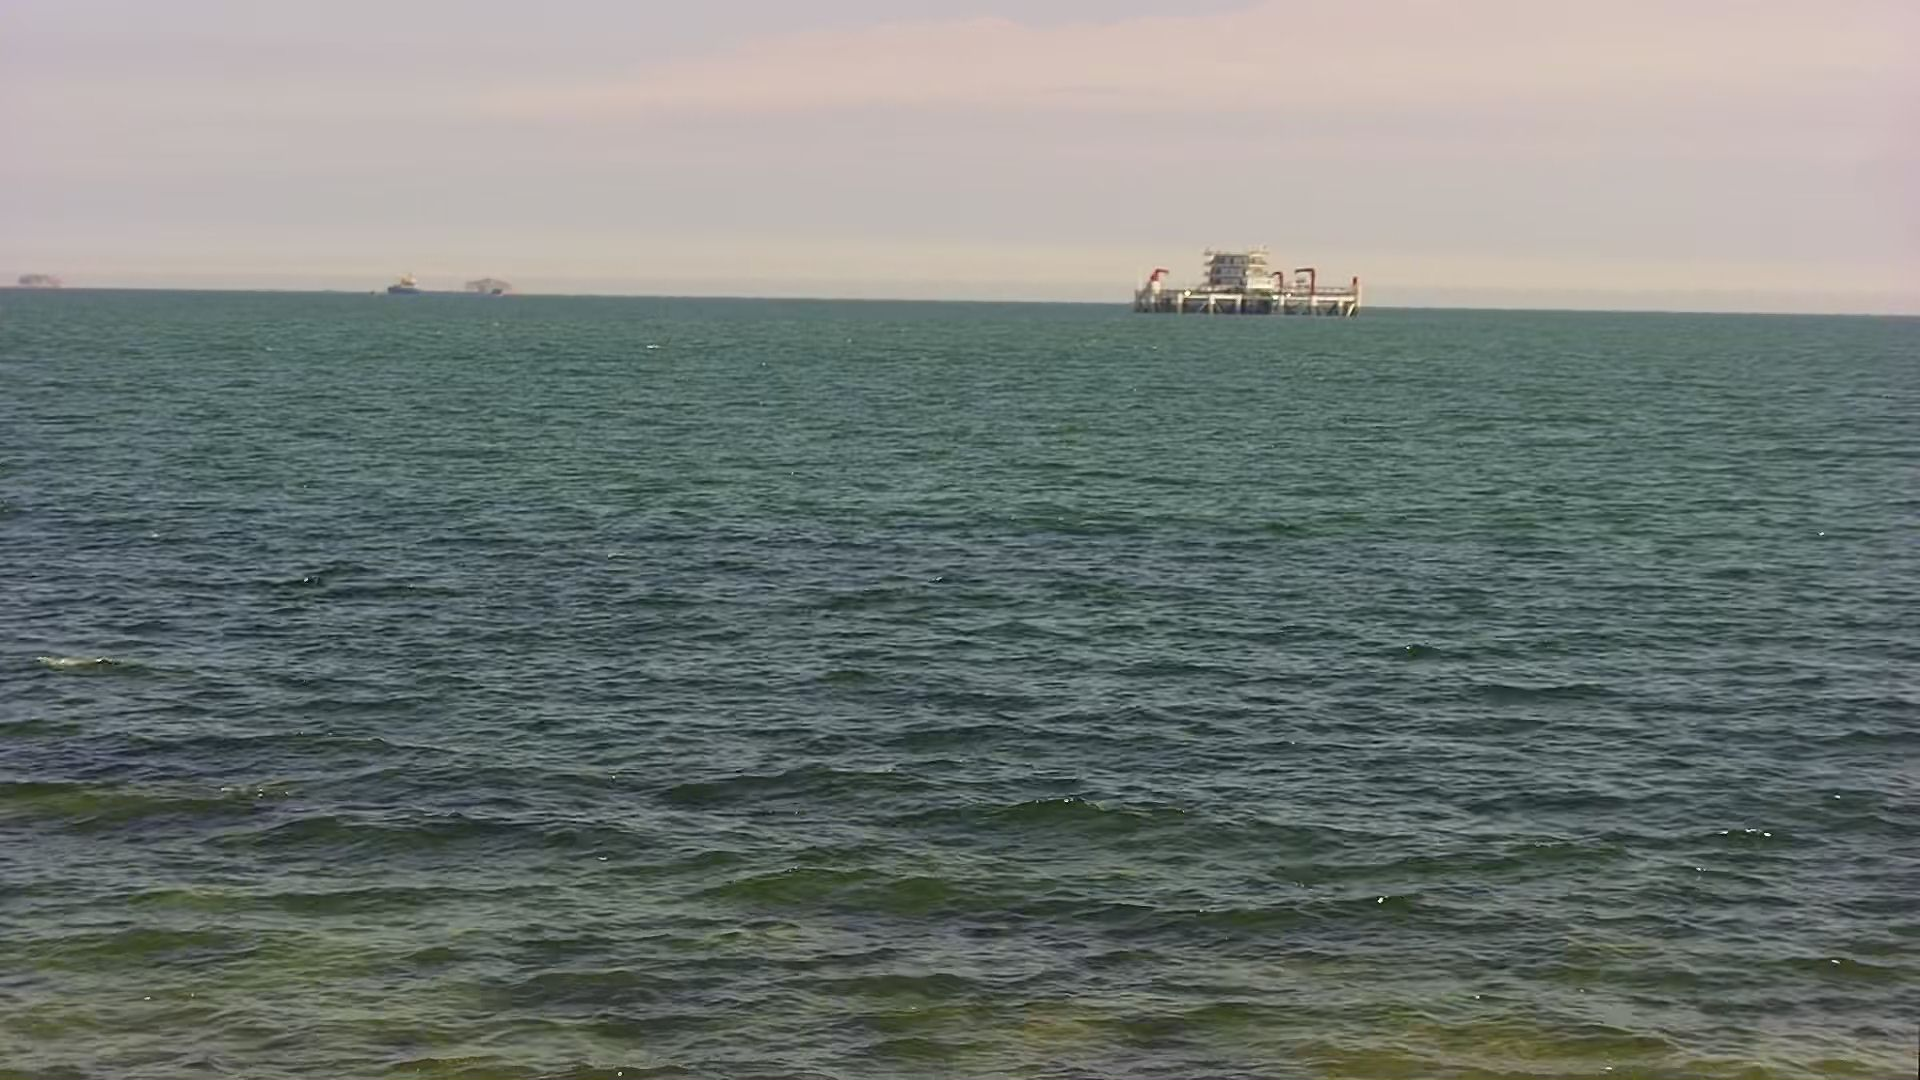platform: (1116, 239, 1378, 322)
rock: (458, 258, 524, 291), (8, 266, 70, 291)
ship: (377, 272, 517, 302)
